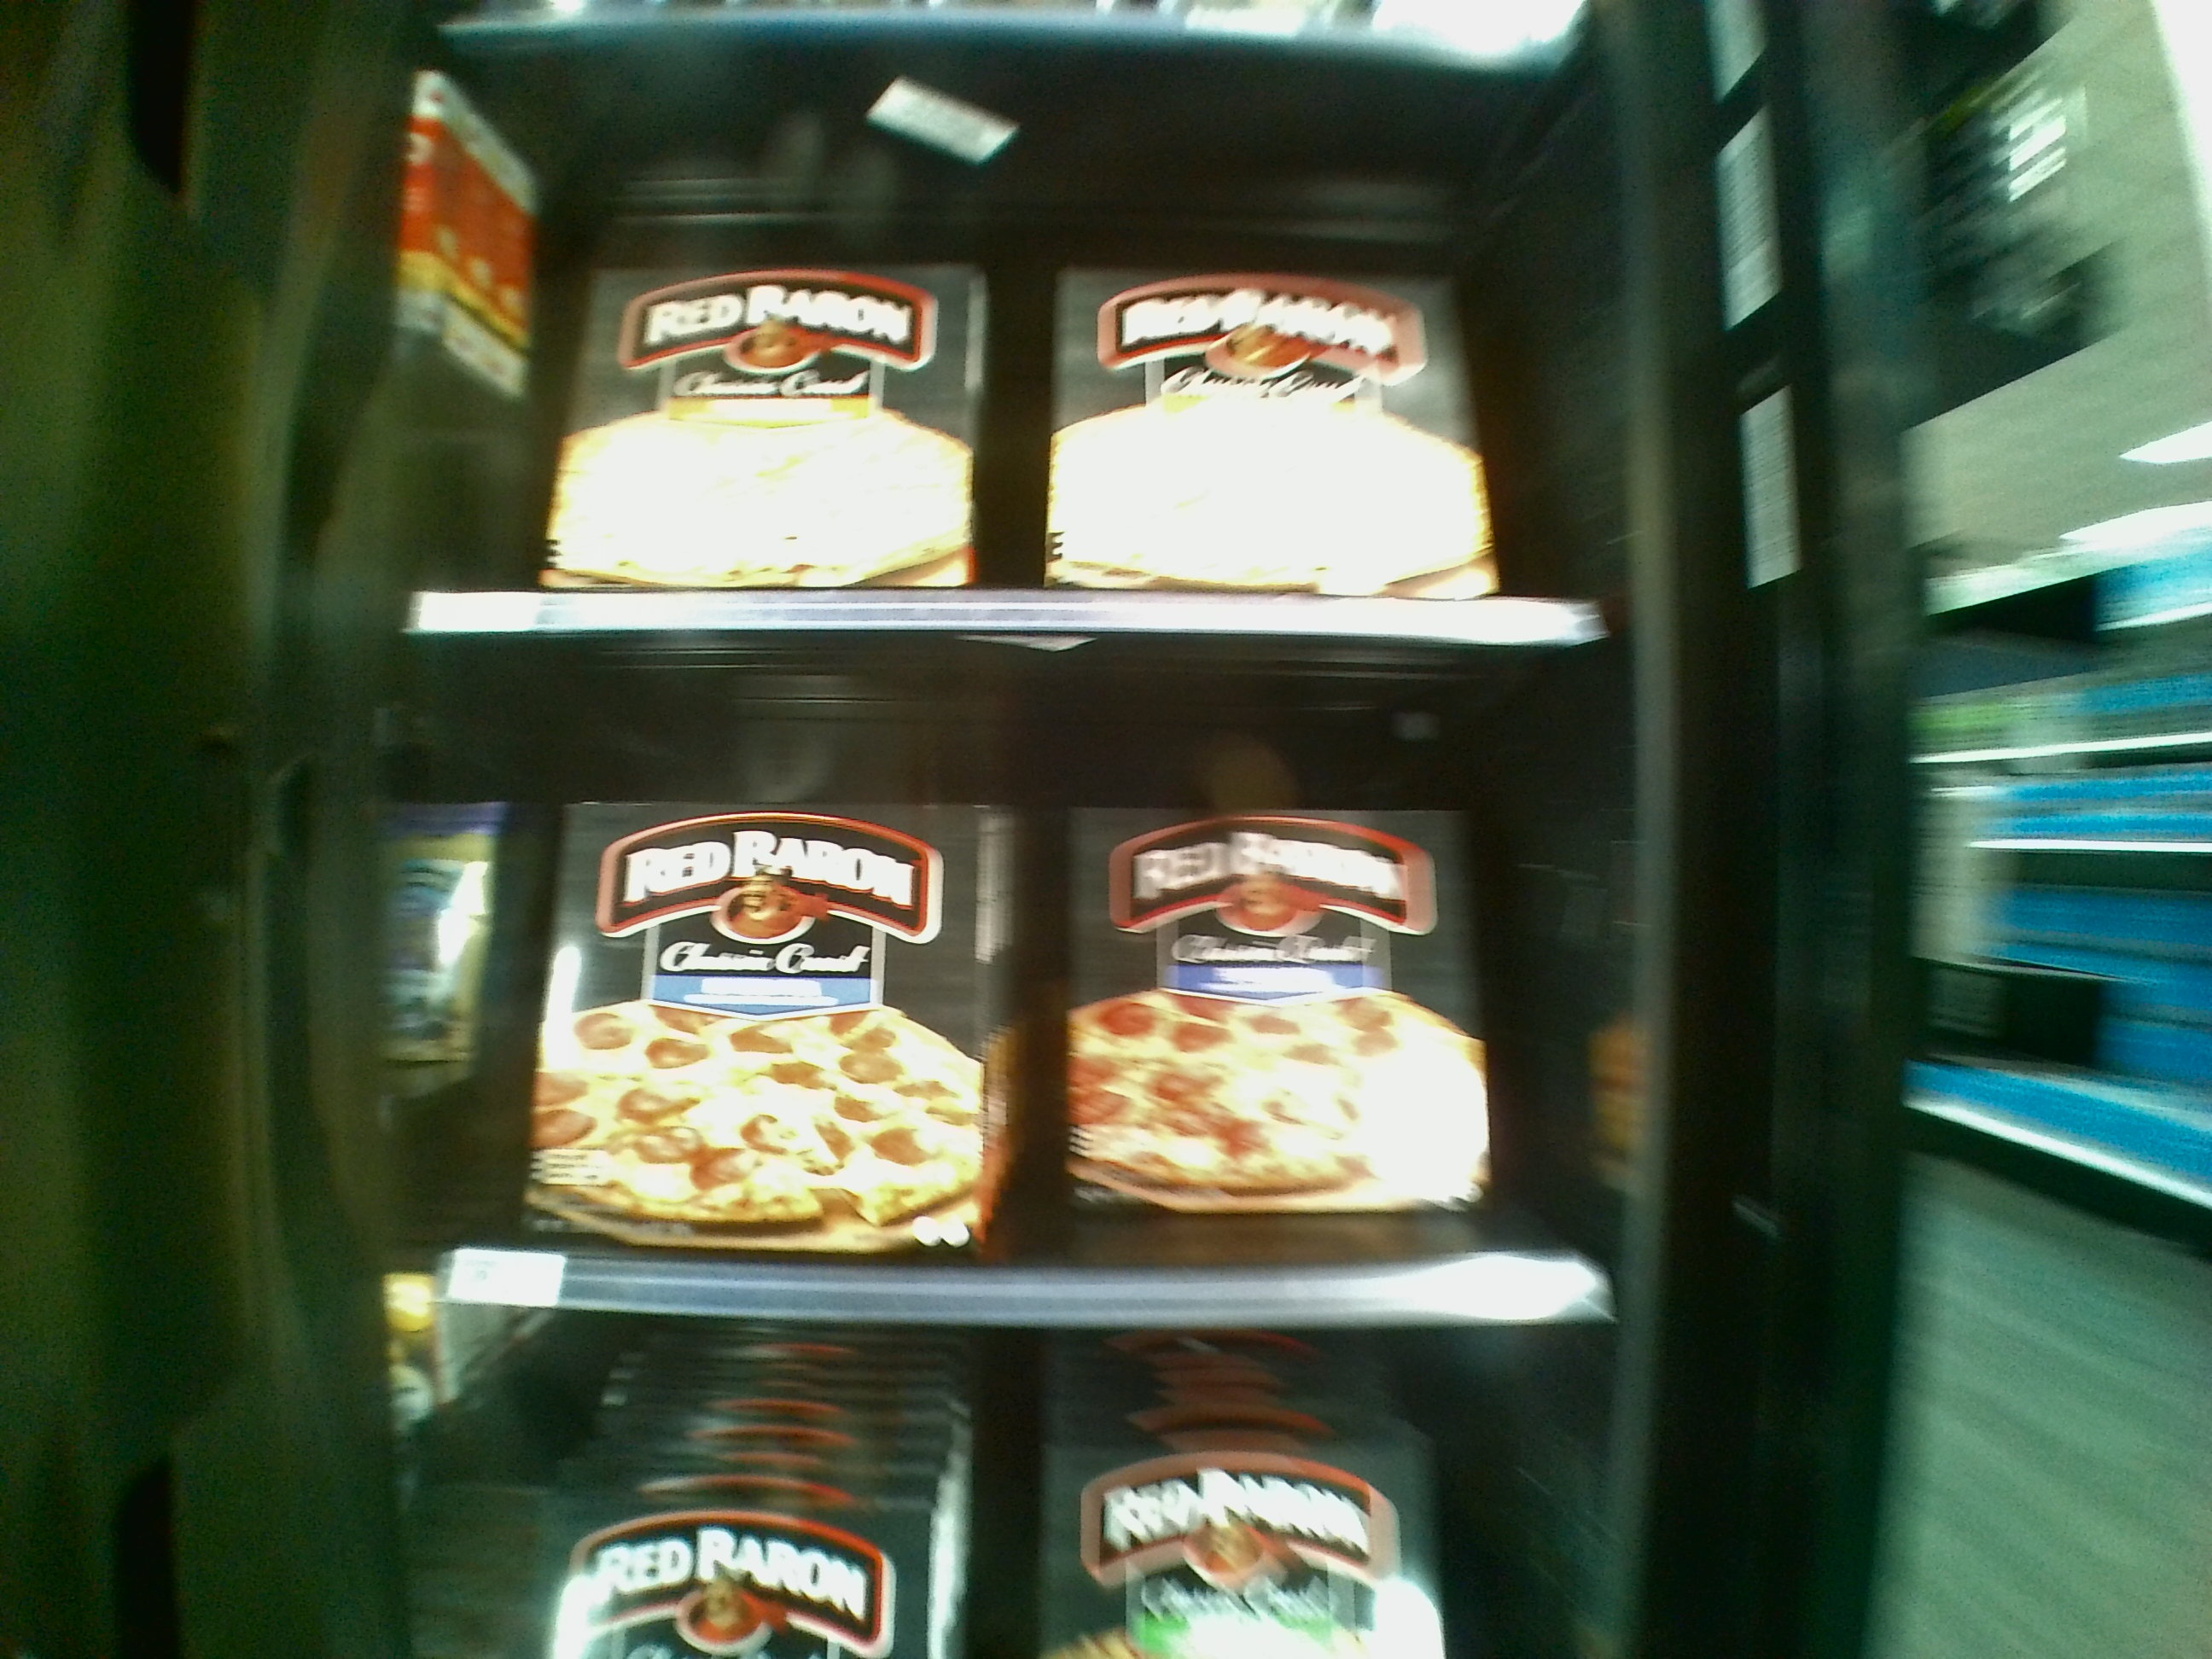shelf: (448, 653, 1606, 1312), (449, 49, 1602, 648)
